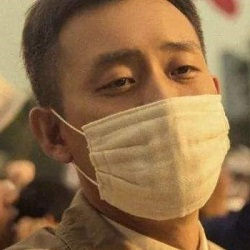mask: (43, 92, 231, 218)
